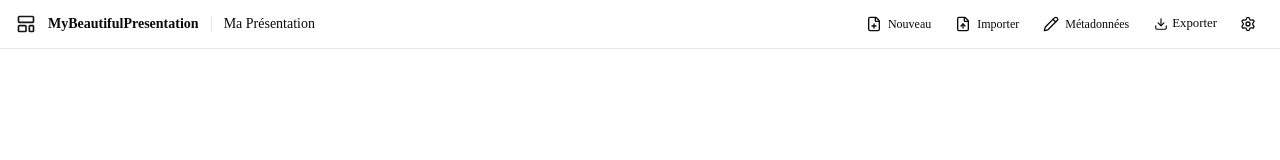
Test: Toolbar — Docker Compose & UI Polish › allows editing the presentation title
Click the button "Ma Présentation": click(277, 24) 224,14 -> 331,34
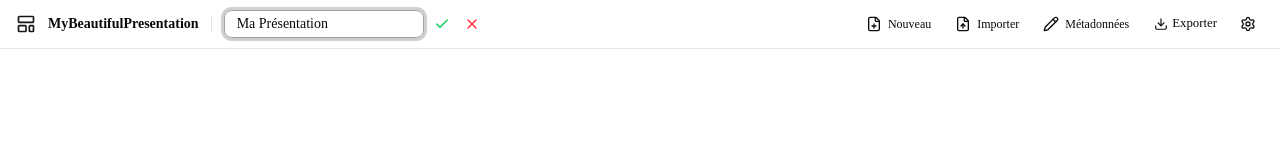
expect the field showing "Ma Présentation" is shown: met, box 224,10 -> 424,38
